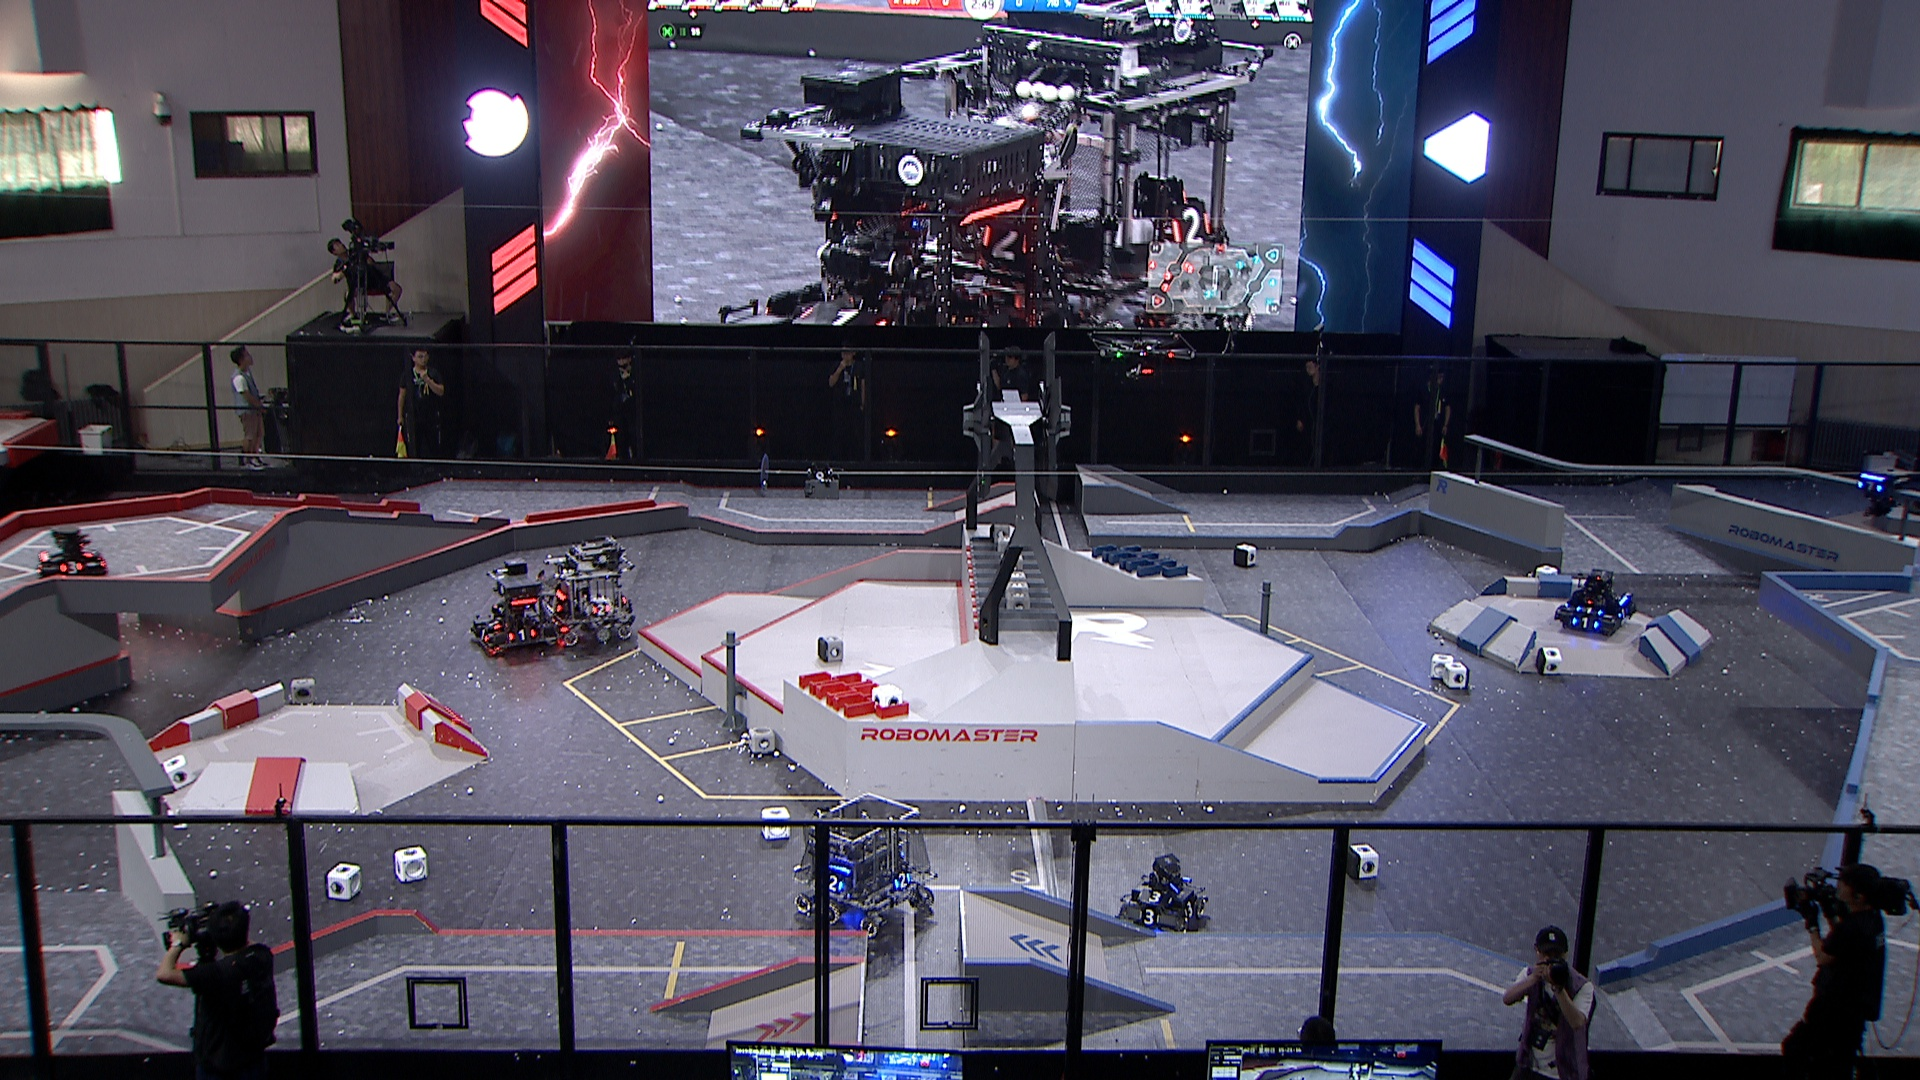armor: (1135, 887, 1178, 906), (508, 626, 538, 644), (827, 872, 847, 895), (1138, 907, 1163, 926), (58, 560, 87, 576), (1575, 603, 1605, 617), (1855, 481, 1884, 496), (1572, 617, 1600, 632), (893, 872, 913, 889), (591, 603, 613, 617), (1182, 899, 1199, 918), (475, 626, 491, 645), (1614, 607, 1631, 621), (487, 618, 502, 632)
car: (794, 789, 940, 936), (545, 538, 637, 645), (467, 556, 562, 655), (1116, 855, 1211, 938), (1551, 564, 1638, 638), (34, 522, 111, 585)
ignore: (898, 7, 1271, 338), (713, 67, 1065, 338)
watcher: (1854, 465, 1911, 520)
